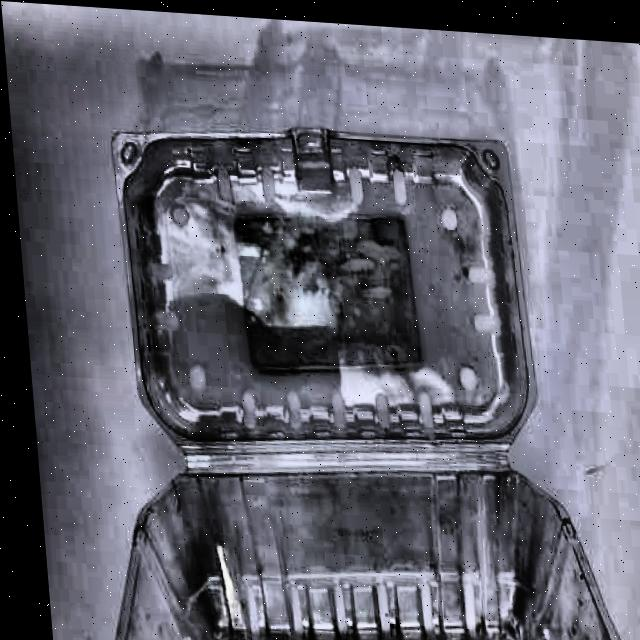plastic: (67, 108, 639, 640)
